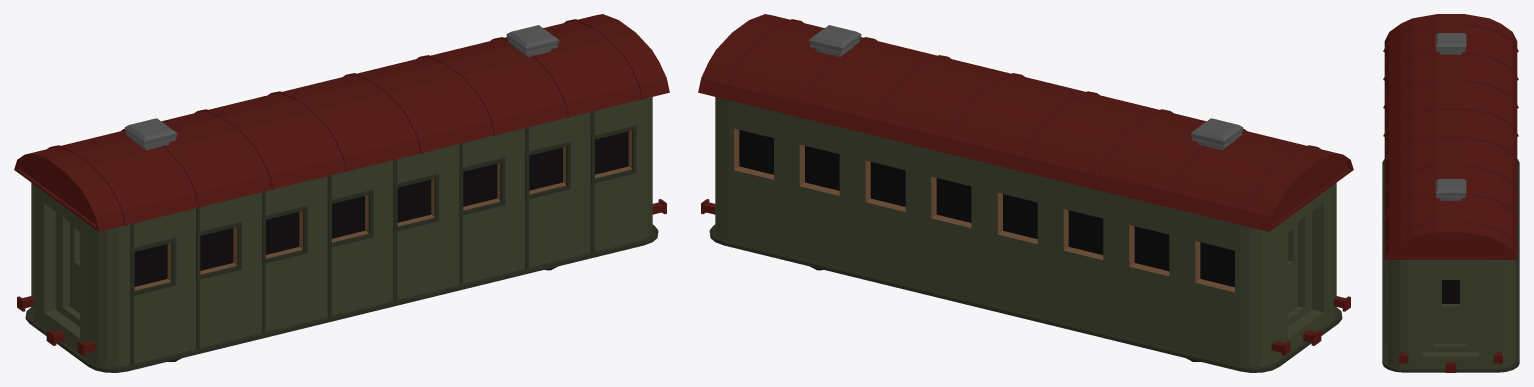
The model's file is prop_tr2_Locomotive_PassengerWagon.glb.
3 views of the same model, side by side, from view 1: azimuth 30°, elevation 25°; view 2: azimuth 150°, elevation 25°; view 3: azimuth 270°, elevation 25° (orthographic). The views are drawn at different scales.
Visible parts, largest first — view 1: Locomotive_PassengerWagon; view 2: Locomotive_PassengerWagon; view 3: Locomotive_PassengerWagon.
Part boxes in pixels (left/top/right/bottom): Locomotive_PassengerWagon: left=14, top=14, right=669, bottom=372; Locomotive_PassengerWagon: left=698, top=14, right=1353, bottom=372; Locomotive_PassengerWagon: left=1382, top=14, right=1519, bottom=372.
Size of the model in its own units: 8.06 by 2.95 by 2.1.
